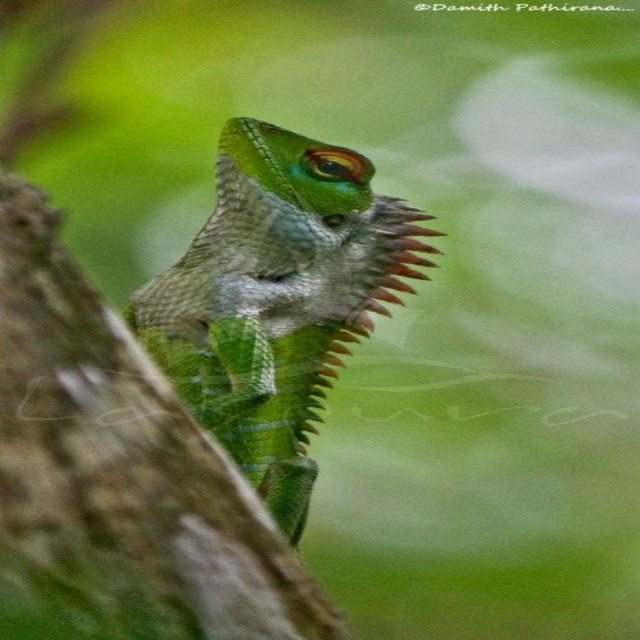Lizard: (95, 118, 457, 598)
